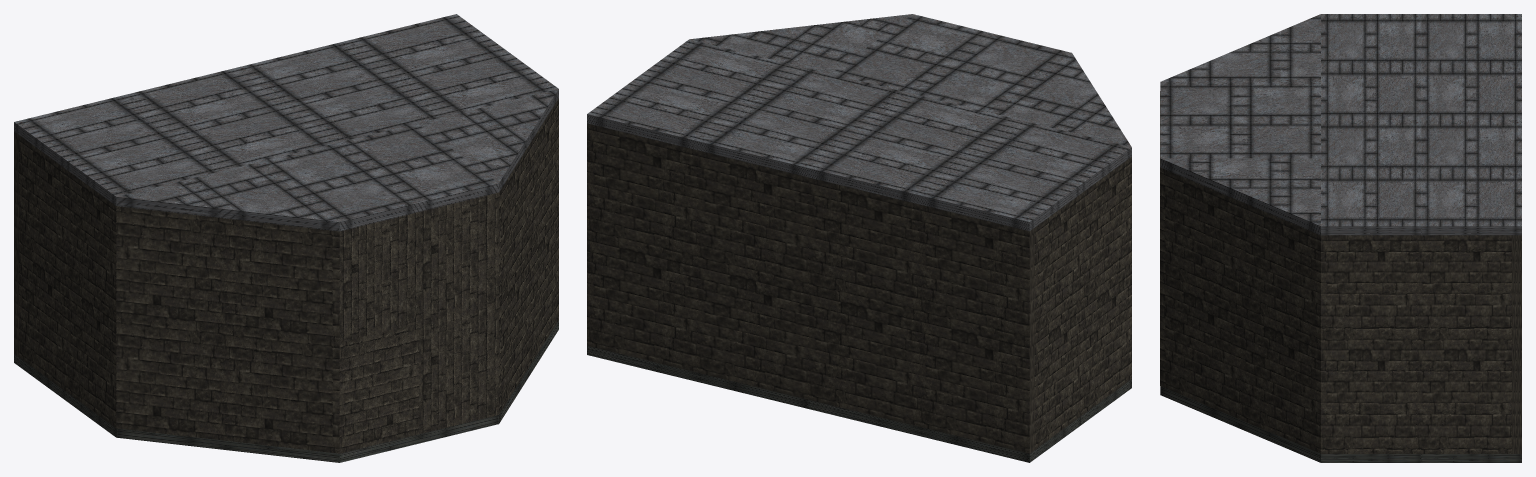
Rendered from halfhexhall.fbx.
3 views of the same model, side by side, from view 1: azimuth 30°, elevation 25°; view 2: azimuth 150°, elevation 25°; view 3: azimuth 270°, elevation 25° (orthographic).
Visible parts, largest first — view 1: Roof, Wall1, Opening1, Opening3, Floor, Wall3; view 2: Wall3, Roof, Opening3, Floor; view 3: Roof, Opening2, Wall1, Floor, Wall3, Opening1.
Part boxes in pixels (bbox=[...]): Roof: bbox=[14, 14, 558, 231]; Wall1: bbox=[116, 98, 558, 452]; Opening1: bbox=[332, 190, 500, 453]; Opening3: bbox=[19, 135, 116, 427]; Floor: bbox=[14, 321, 558, 462]; Wall3: bbox=[14, 131, 18, 356]; Wall3: bbox=[587, 123, 1034, 453]; Roof: bbox=[587, 14, 1131, 231]; Opening3: bbox=[1034, 157, 1131, 449]; Floor: bbox=[587, 346, 1131, 462]; Roof: bbox=[1160, 14, 1521, 235]; Opening2: bbox=[1321, 235, 1511, 453]; Wall1: bbox=[1165, 170, 1320, 453]; Floor: bbox=[1160, 386, 1521, 462]; Wall3: bbox=[1511, 235, 1521, 453]; Opening1: bbox=[1160, 91, 1165, 387].
Size of what is drawn, in the model's own units: 2500 by 1300 by 1800.
